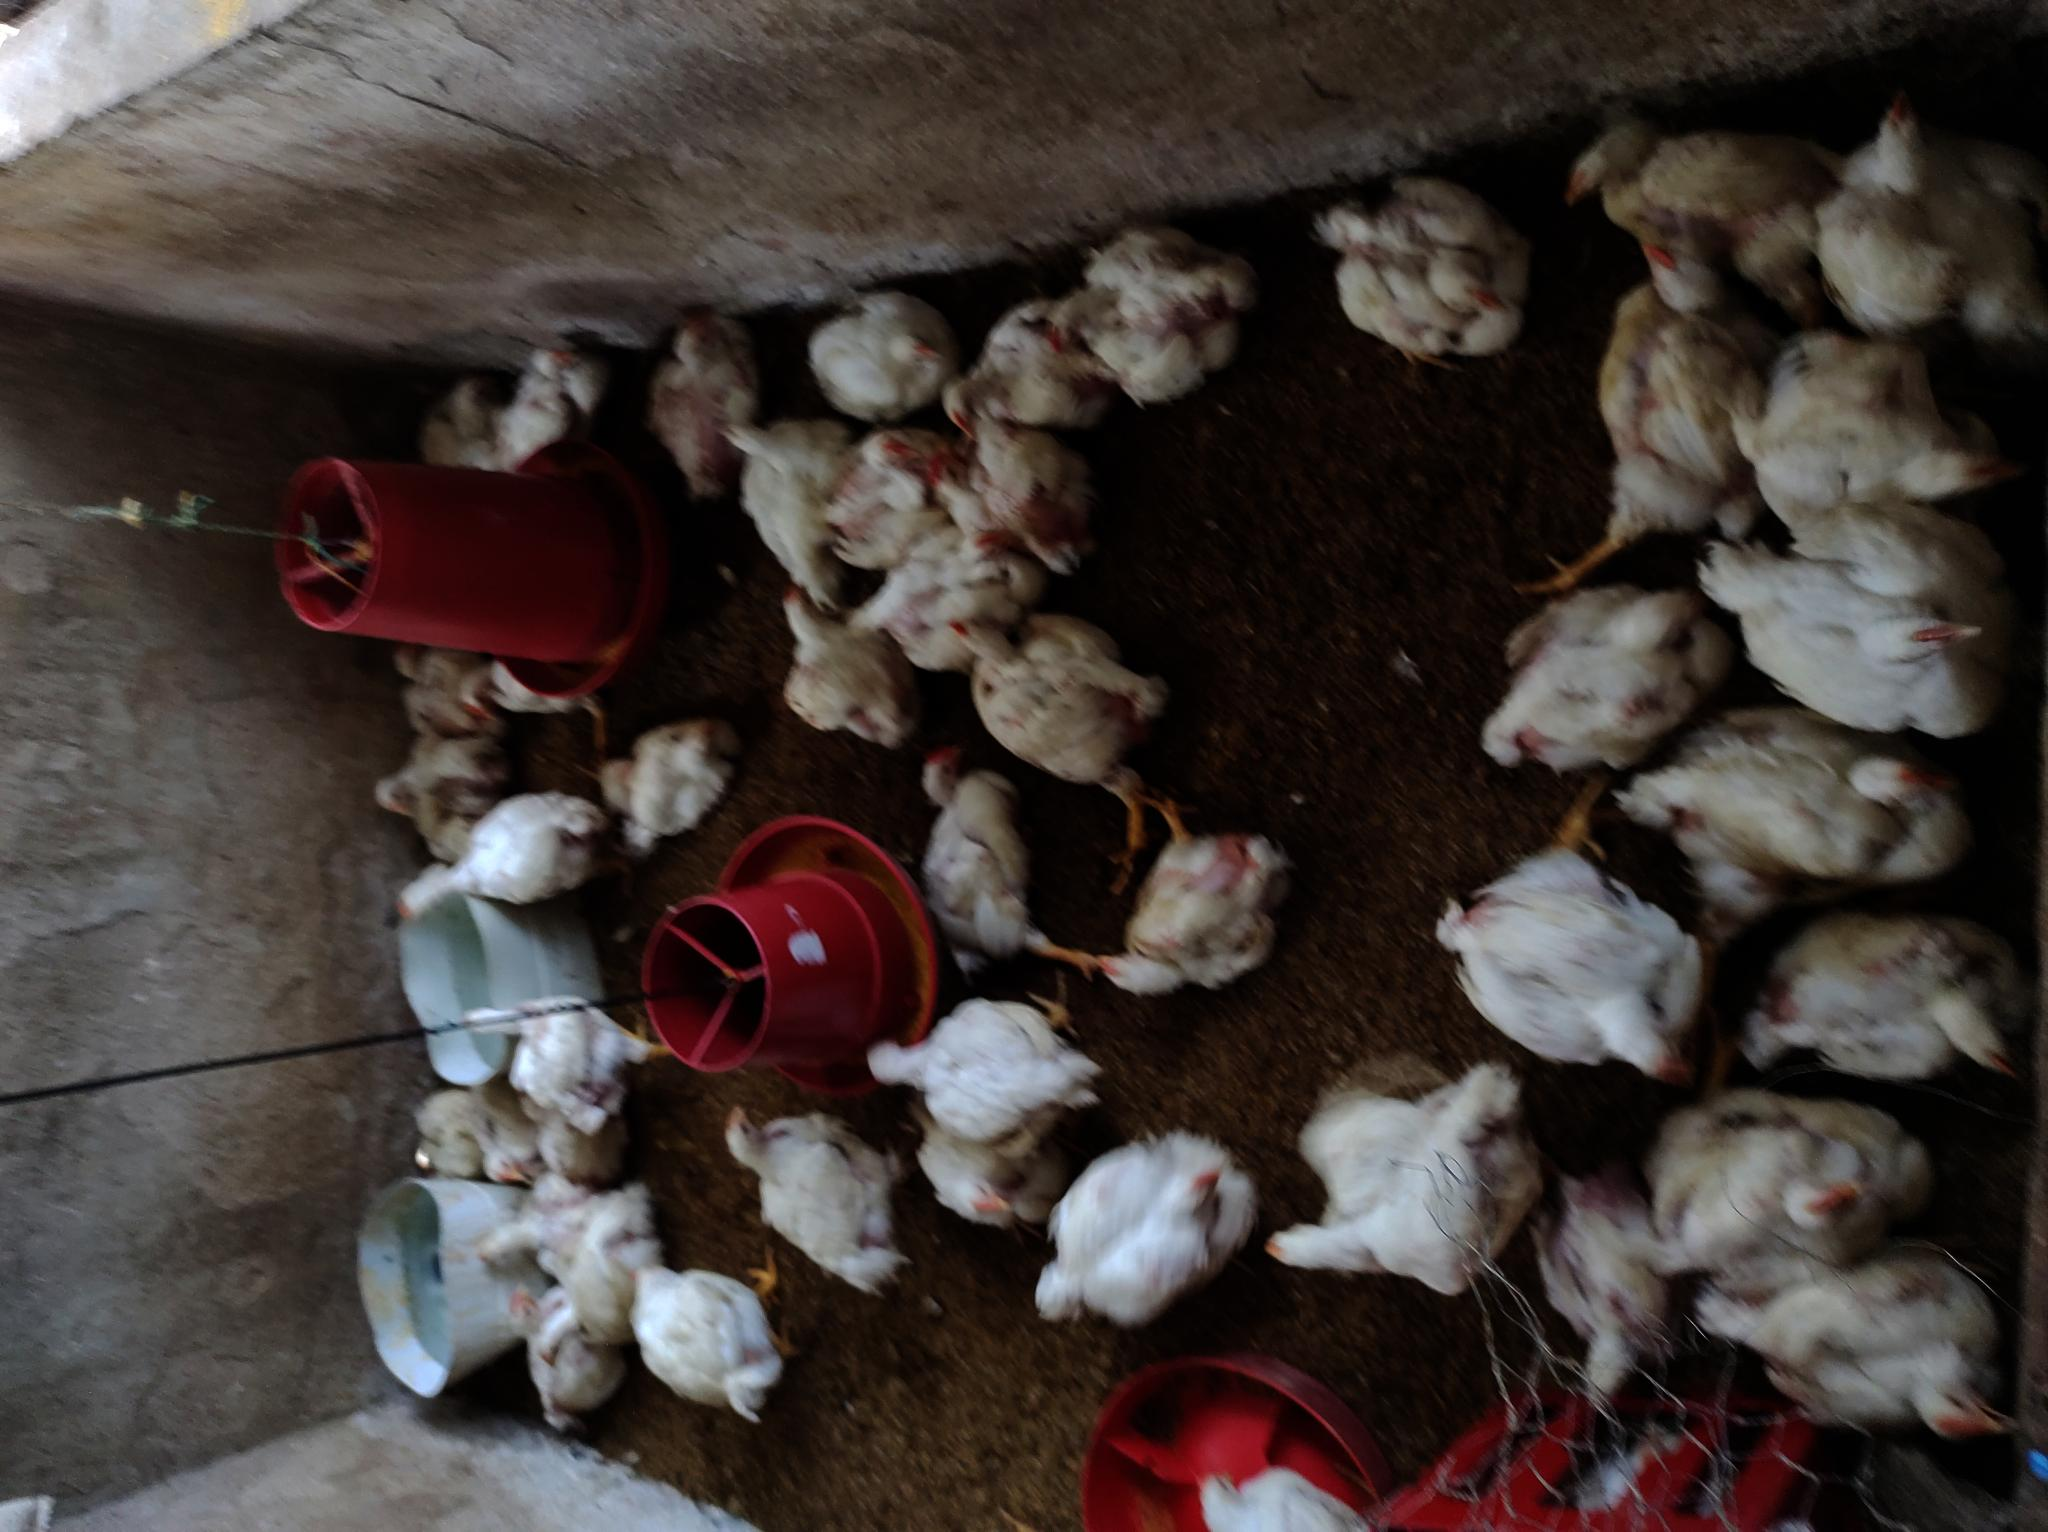Pollos: (1689, 1217, 2017, 1455), (1678, 517, 2029, 739), (1421, 817, 1700, 1089), (1602, 710, 1972, 896), (1261, 1060, 1535, 1295), (1717, 314, 2021, 520), (1783, 97, 2022, 333), (1577, 257, 1762, 558), (1483, 547, 1710, 792), (1721, 909, 2030, 1086), (1643, 1091, 1927, 1270), (1548, 103, 1829, 283), (1305, 171, 1536, 372), (1034, 1123, 1253, 1336), (579, 1229, 808, 1429), (718, 1089, 920, 1300), (940, 600, 1168, 785), (843, 991, 1100, 1147), (1041, 219, 1252, 409), (1528, 1168, 1678, 1415), (1084, 826, 1285, 1003), (907, 731, 1051, 975), (370, 793, 603, 937), (830, 518, 1038, 661), (455, 998, 674, 1131), (907, 414, 1092, 566), (632, 303, 767, 504), (936, 296, 1097, 451), (539, 1192, 663, 1392), (711, 409, 853, 583), (767, 583, 911, 745), (500, 1281, 635, 1445), (586, 716, 750, 843), (796, 290, 951, 422), (898, 1115, 1065, 1234), (457, 1176, 648, 1276), (830, 417, 946, 562), (1179, 1455, 1392, 1532), (473, 1094, 613, 1192), (357, 747, 496, 842), (447, 652, 610, 731), (378, 652, 499, 737), (428, 377, 533, 472), (504, 336, 600, 414)
